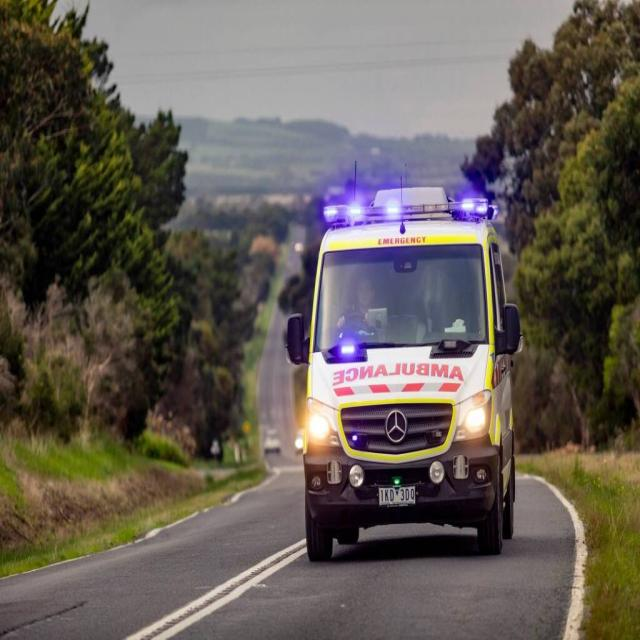Ambulance: (278, 158, 525, 588)
